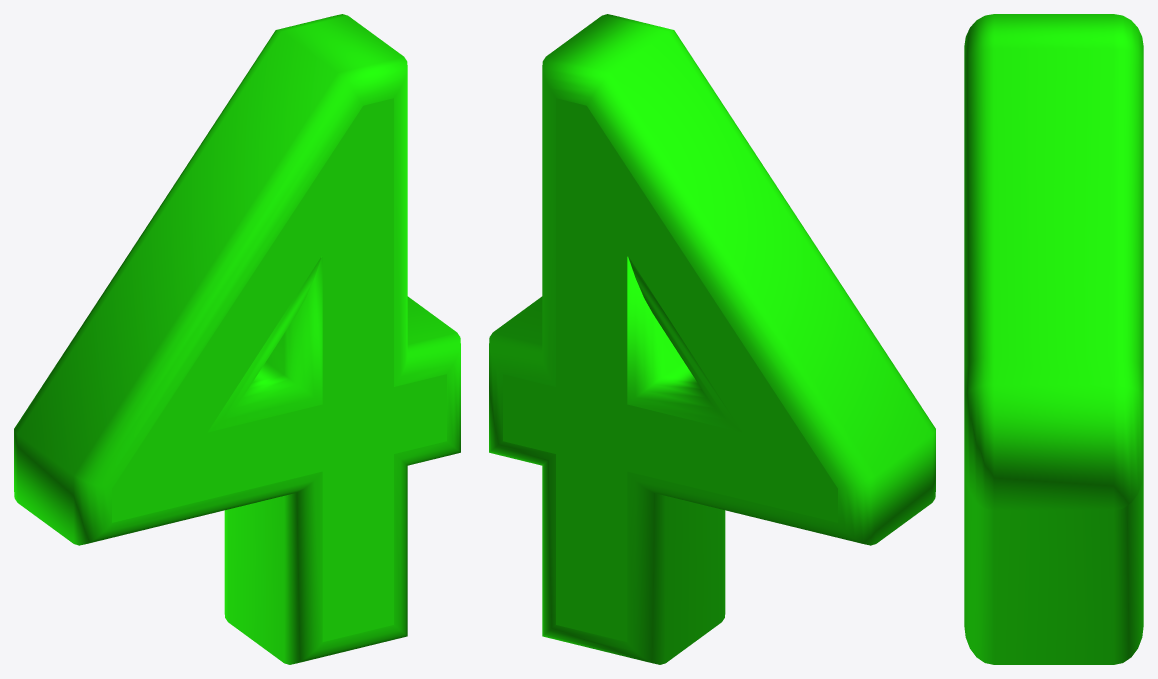
The picture shows the model from 3 angles, left to right: view 1: azimuth 30°, elevation 25°; view 2: azimuth 150°, elevation 25°; view 3: azimuth 270°, elevation 25°; orthographic projection. The views are drawn at different scales.
Visible parts, largest first — view 1: Text; view 2: Text; view 3: Text.
Part boxes in pixels (x1,y1,x2,y2): Text: (14,14,460,664); Text: (489,14,935,664); Text: (964,14,1143,664).
Bounding box in the file's own units: 1.58 × 2.27 × 0.6.
